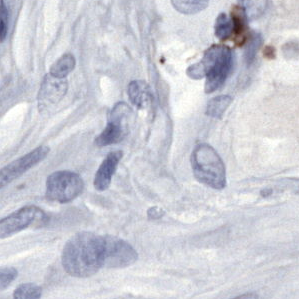Lymphocyte: (227, 3, 251, 47)
